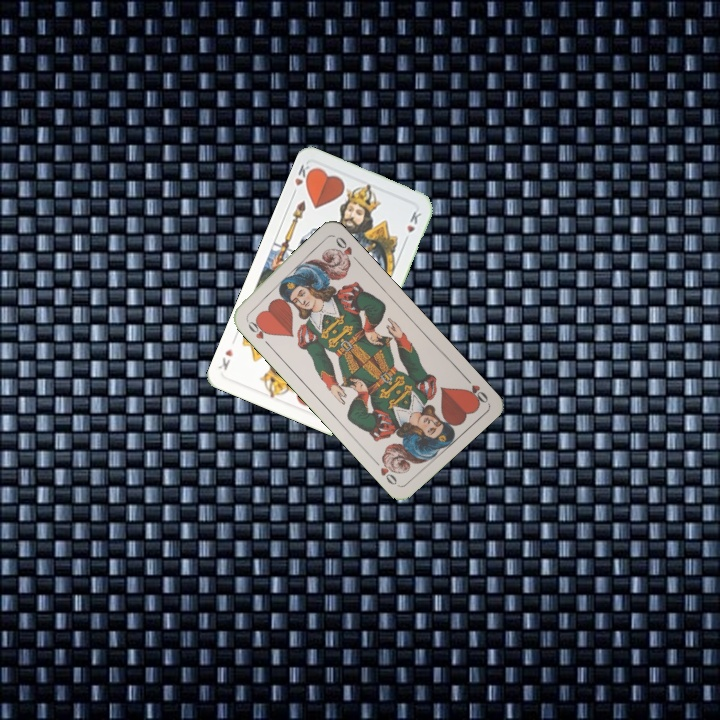HK: (288, 160, 316, 199)
HO: (459, 371, 491, 407), (242, 315, 273, 349)
